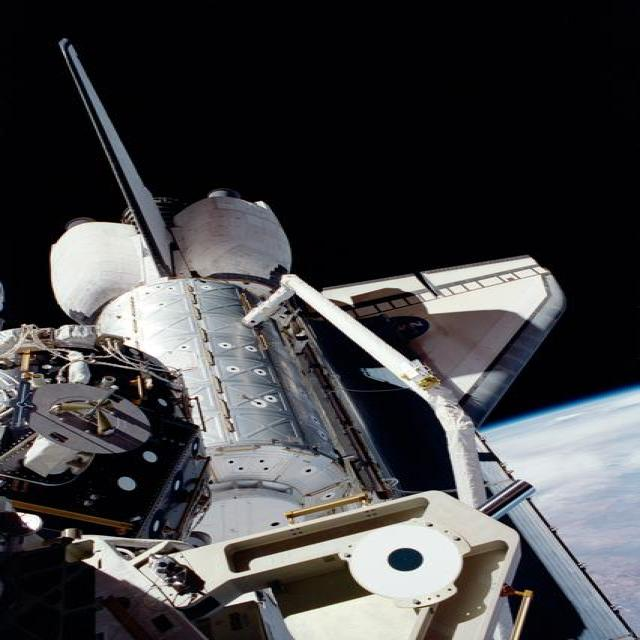medium_debris: (0, 42, 548, 639)
